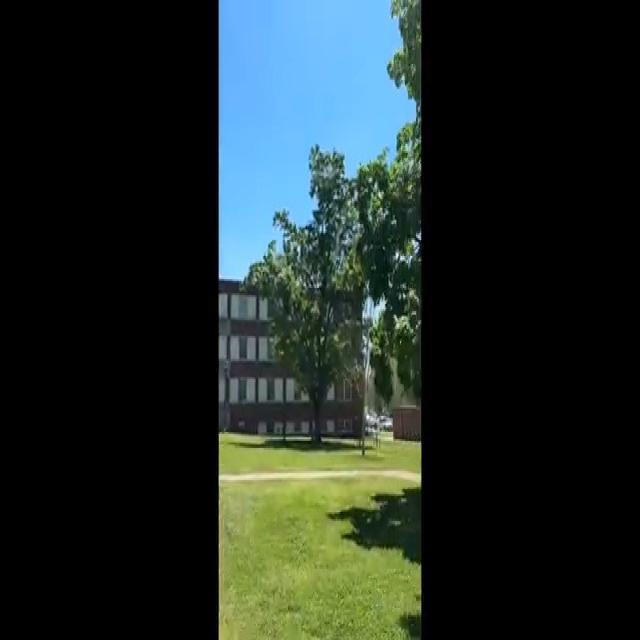drone: (308, 155, 346, 189)
